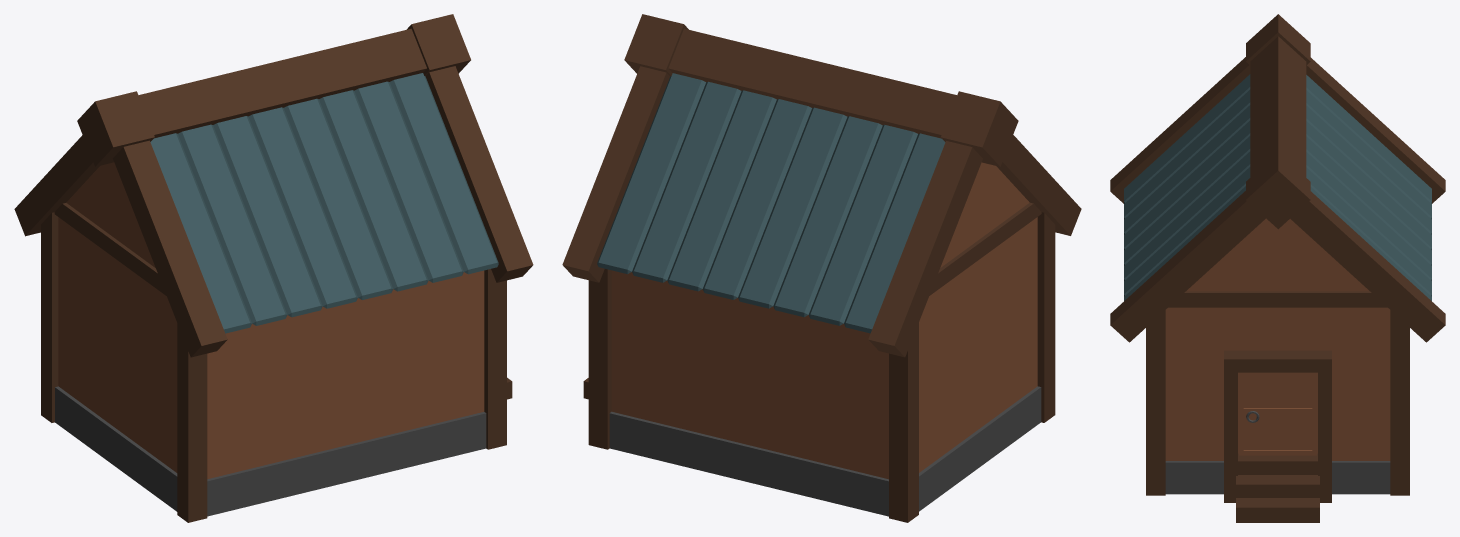
The model's file is house_basic.glb.
3 renders of one model, left to right at view 1: azimuth 30°, elevation 25°; view 2: azimuth 150°, elevation 25°; view 3: azimuth 270°, elevation 25°, orthographic. The views are drawn at different scales.
Parts seen in each view (by area): view 1: Cube.001, Cube.008, Cube.003, Cube.004, Cube, Cube.002, Cube.009; view 2: Cube.001, Cube.008, Cube.003, Cube.004, Cube, Cube.002, Cube.009; view 3: Cube.001, Cube.008, Cube.003, Cube.004, Cube.002, Cube.007, Cube.005, Cube.006, Cube, Cube.009.
Boxes of the visible parts, x1=… form: Cube.001: x1=58, y1=162, x2=484, y2=479; Cube.008: x1=150, y1=73, x2=498, y2=333; Cube.003: x1=14, y1=66, x2=533, y2=357; Cube.004: x1=77, y1=14, x2=470, y2=166; Cube: x1=55, y1=386, x2=486, y2=516; Cube.002: x1=41, y1=212, x2=506, y2=522; Cube.009: x1=54, y1=203, x2=166, y2=295; Cube.001: x1=611, y1=162, x2=1037, y2=479; Cube.008: x1=597, y1=73, x2=945, y2=333; Cube.003: x1=562, y1=66, x2=1081, y2=357; Cube.004: x1=624, y1=14, x2=1018, y2=166; Cube: x1=609, y1=386, x2=1041, y2=516; Cube.002: x1=588, y1=212, x2=1055, y2=522; Cube.009: x1=929, y1=202, x2=1041, y2=295; Cube.001: x1=1165, y1=218, x2=1390, y2=460; Cube.008: x1=1124, y1=74, x2=1431, y2=300; Cube.003: x1=1110, y1=57, x2=1445, y2=342; Cube.004: x1=1246, y1=14, x2=1310, y2=229; Cube.002: x1=1146, y1=310, x2=1409, y2=495; Cube.007: x1=1239, y1=372, x2=1316, y2=455; Cube.005: x1=1224, y1=350, x2=1331, y2=502; Cube.006: x1=1236, y1=453, x2=1319, y2=522; Cube: x1=1165, y1=461, x2=1390, y2=494; Cube.009: x1=1168, y1=291, x2=1387, y2=307.
Bounding box in the file's own units: 7.2 × 6.57 × 5.93.
